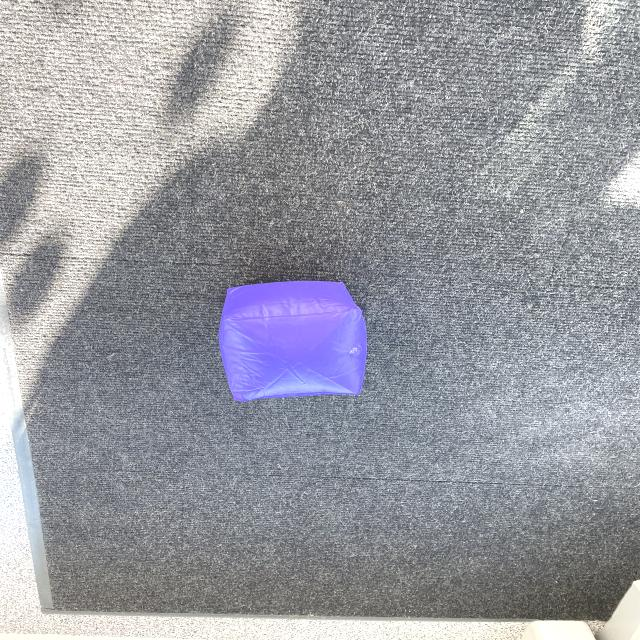frc_cube: (207, 276, 379, 414)
